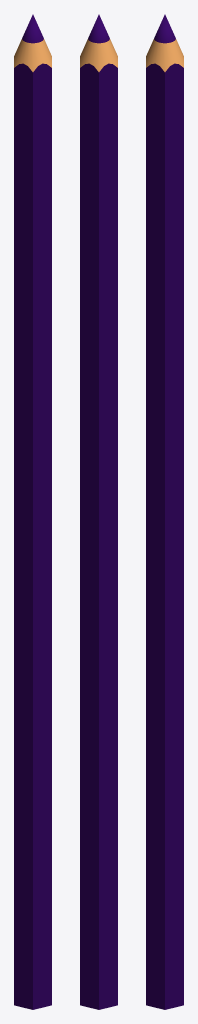
File: potlood-paars.fbx
3 renders of one model, left to right at view 1: azimuth 30°, elevation 25°; view 2: azimuth 210°, elevation 25°; view 3: azimuth 270°, elevation 25°, orthographic.
Parts seen in each view (by area): view 1: Model; view 2: Model; view 3: Model.
Part boxes in pixels (x1,y1,x2,y2): Model: (14, 14, 51, 1009); Model: (80, 14, 117, 1009); Model: (146, 14, 183, 1009).
Size of the model in its own units: 80 by 2000 by 69.28.
